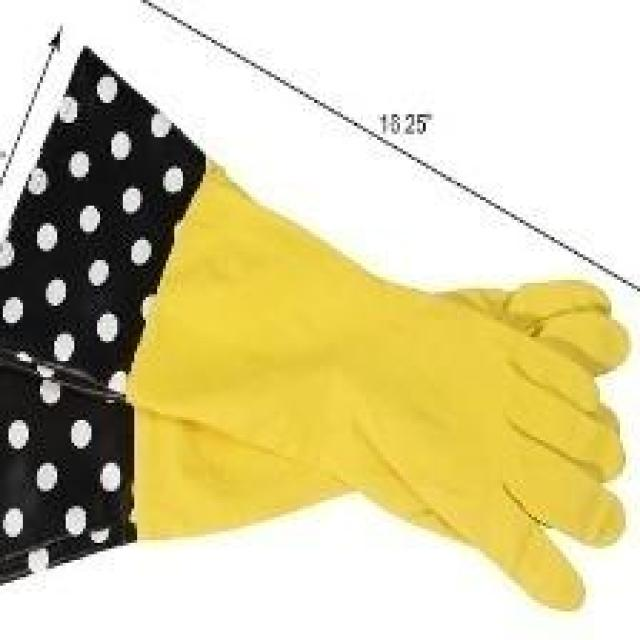Glove: (0, 52, 636, 634)
